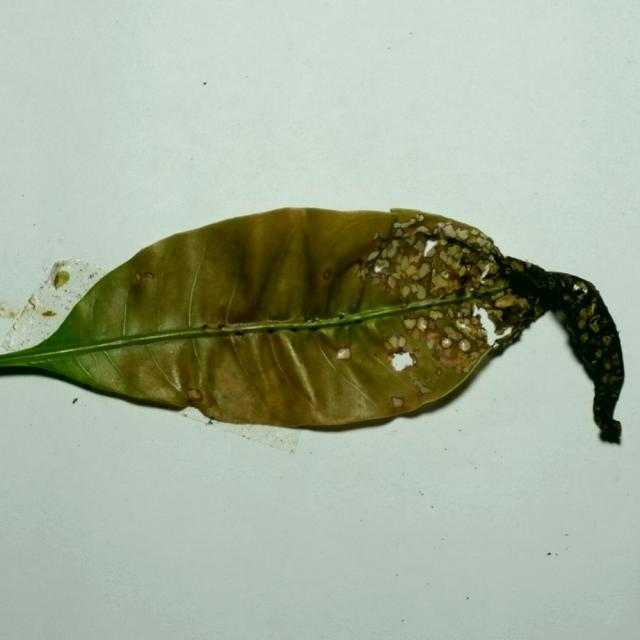Anthracnose: (325, 326, 410, 400), (401, 314, 476, 371), (570, 300, 617, 363), (442, 240, 491, 290), (410, 257, 463, 298), (383, 243, 429, 282), (402, 316, 453, 351), (497, 296, 529, 323), (439, 252, 459, 273), (394, 217, 417, 232), (133, 270, 155, 285), (494, 295, 518, 308), (465, 314, 482, 332), (387, 334, 405, 350), (488, 310, 504, 328), (335, 345, 351, 360), (186, 387, 203, 401), (476, 235, 491, 250), (455, 320, 472, 333), (365, 250, 380, 264), (385, 242, 398, 258), (443, 224, 457, 238), (424, 244, 437, 257), (383, 339, 395, 353), (403, 318, 417, 330), (376, 260, 389, 272), (371, 273, 383, 285), (429, 310, 442, 321), (578, 308, 589, 321), (357, 264, 367, 278), (418, 316, 429, 328), (387, 276, 397, 289), (577, 318, 587, 330), (495, 326, 507, 335), (390, 240, 400, 250), (580, 333, 589, 343)
Mango: (0, 208, 625, 446)
